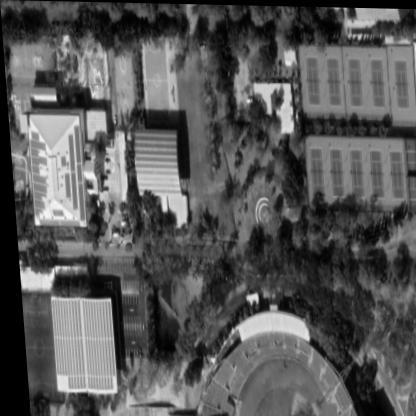solar-pv-panel: (28, 131, 45, 214), (72, 125, 82, 221), (66, 135, 76, 211), (36, 219, 77, 226), (62, 173, 68, 197)
